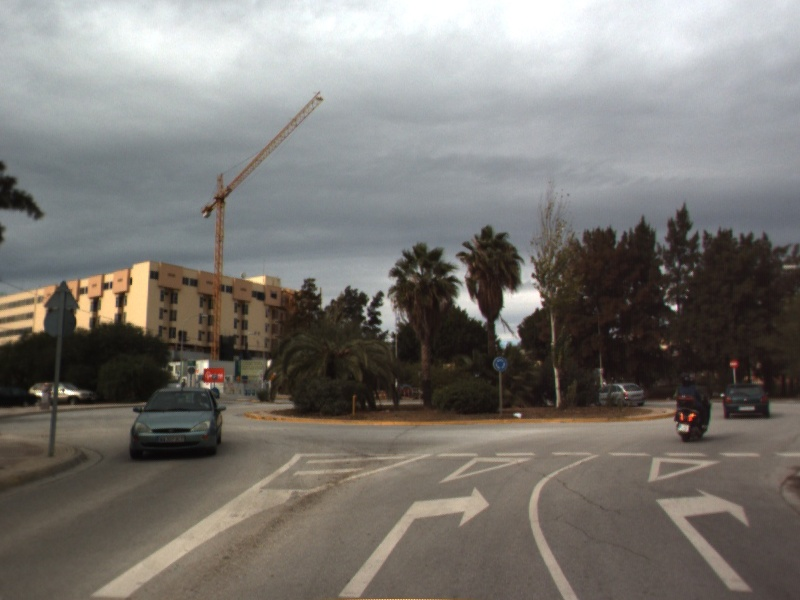RIGHT: (336, 484, 492, 599), (653, 485, 755, 593)
